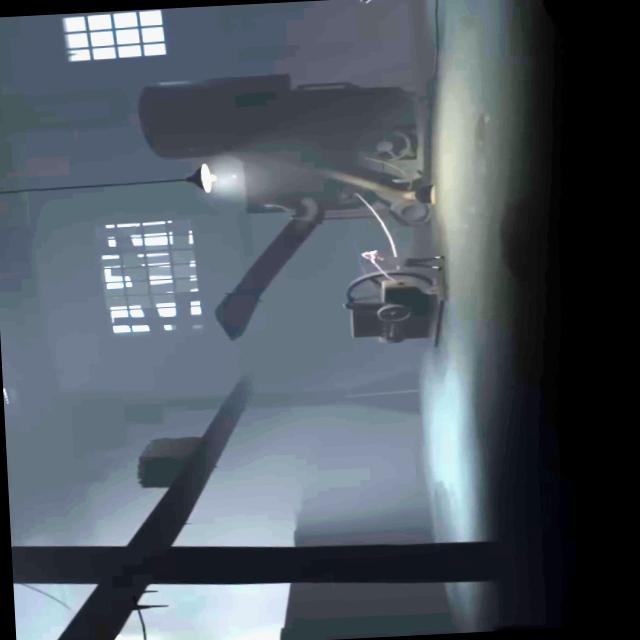boy: (361, 246, 445, 274)
